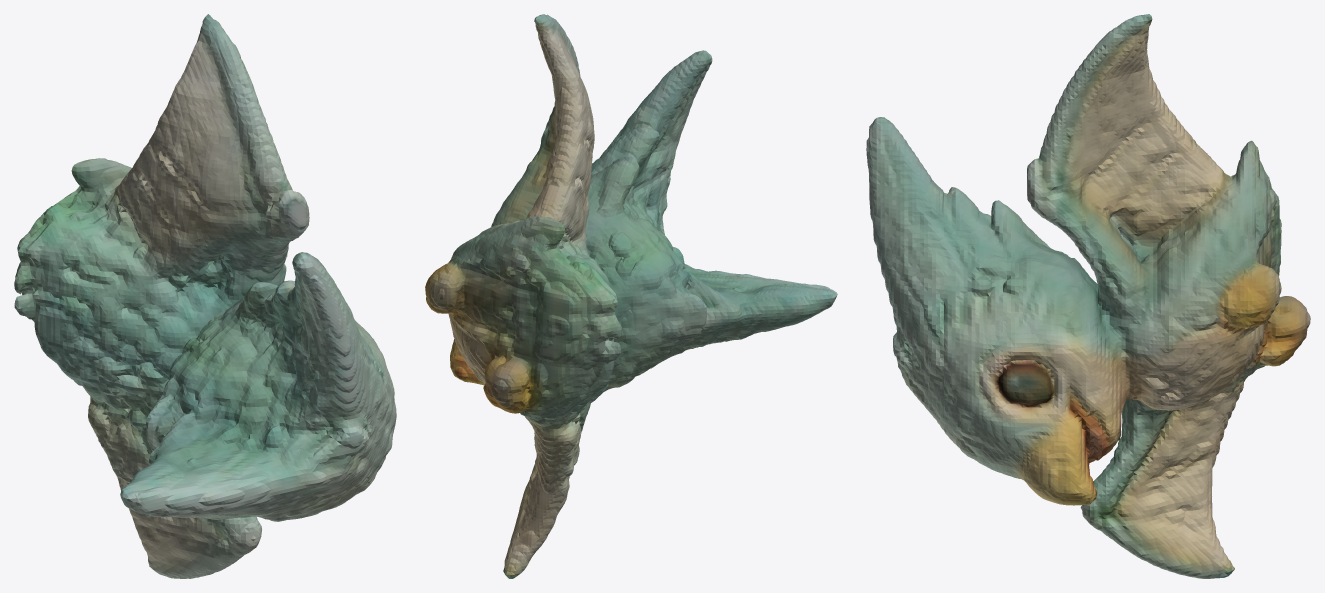
File: pet_ptero.glb
The picture shows the model from 3 angles, left to right: view 1: azimuth 30°, elevation 25°; view 2: azimuth 150°, elevation 25°; view 3: azimuth 270°, elevation 25°; orthographic projection. The views are drawn at different scales.
Visible parts, largest first — view 1: geometry_0; view 2: geometry_0; view 3: geometry_0.
Part boxes in pixels (x1,y1,x2,y2): geometry_0: (14,14,396,578); geometry_0: (425,14,837,578); geometry_0: (866,14,1310,578).
Size of the model in its own units: 0.6569 by 1.08 by 0.7671.
